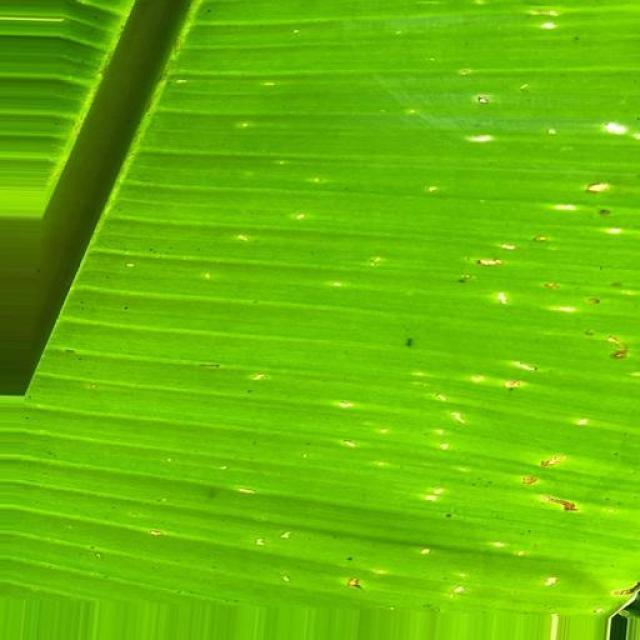Black_rot: (253, 47, 640, 617)
